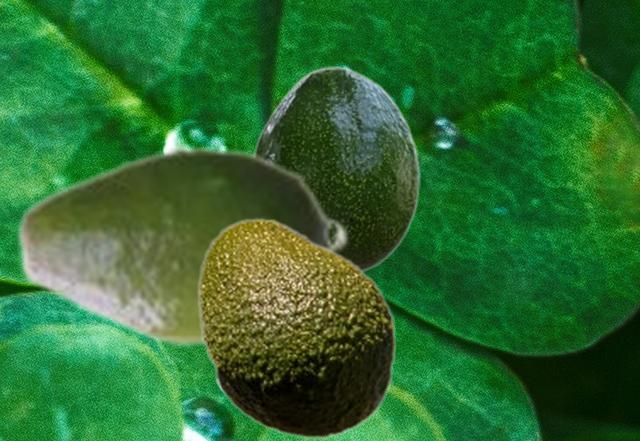avocado: (13, 141, 350, 349), (196, 217, 396, 439), (252, 66, 419, 272)
